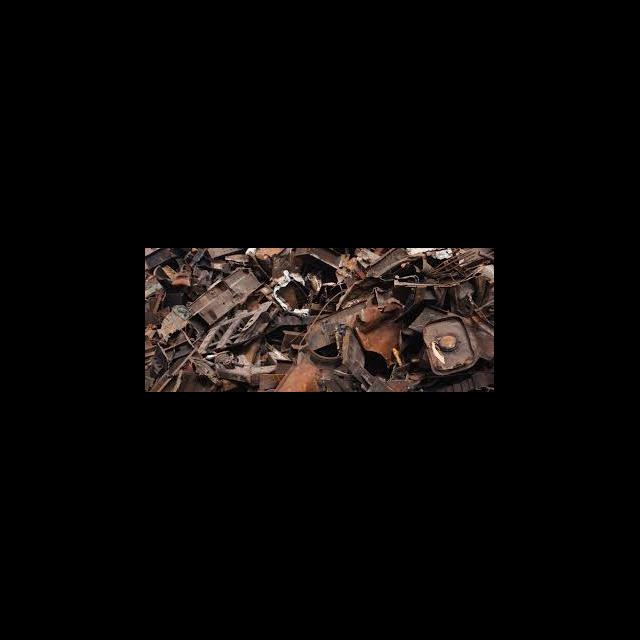metal: (294, 284, 409, 363), (184, 262, 272, 323), (416, 312, 481, 381), (194, 307, 272, 355), (398, 248, 480, 292), (182, 348, 255, 386), (152, 300, 195, 344), (326, 251, 370, 285)
